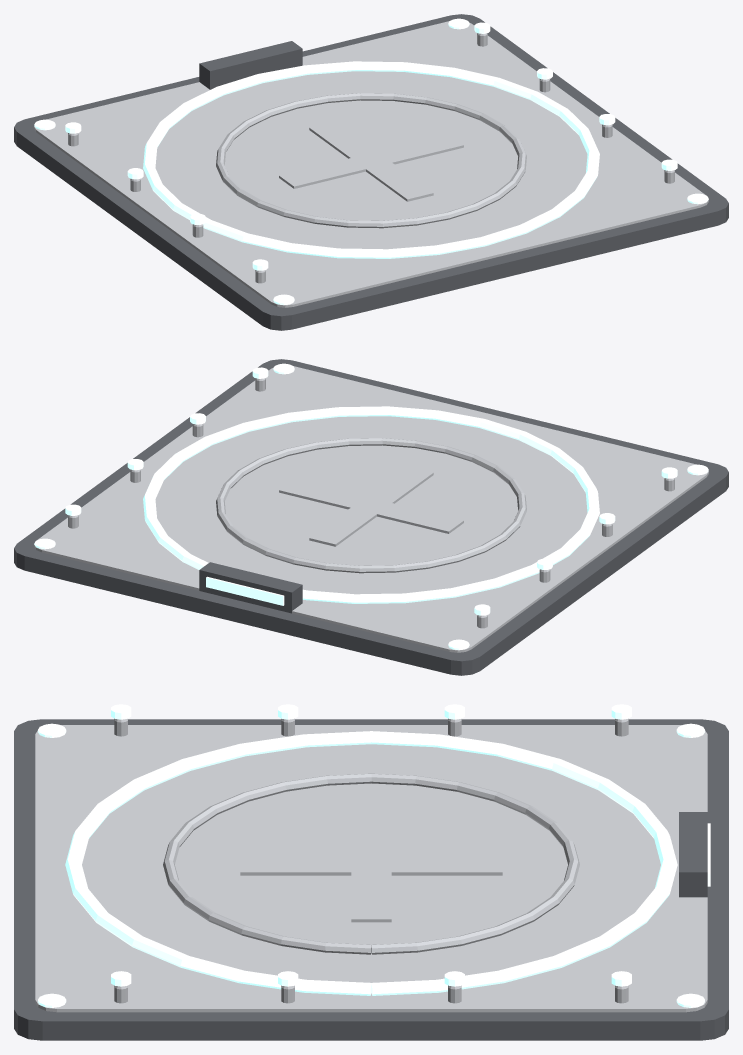
The model's file is hover-transit-and-antigrav-fleet-landing-pad-tile-a8f28255__17103.glb.
The picture shows the model from 3 angles, top to bottom: view 1: azimuth 30°, elevation 25°; view 2: azimuth 150°, elevation 25°; view 3: azimuth 270°, elevation 25°; orthographic projection. The views are drawn at different scales.
Parts seen in each view (by area): view 1: landing-pad-tile; view 2: landing-pad-tile; view 3: landing-pad-tile.
Boxes of the visible parts, x1,y1,x2,y2 form: landing-pad-tile: (14, 14, 728, 330); landing-pad-tile: (14, 359, 728, 675); landing-pad-tile: (14, 704, 728, 1040).
Size of the model in its own units: 6 by 0.4402 by 6.
